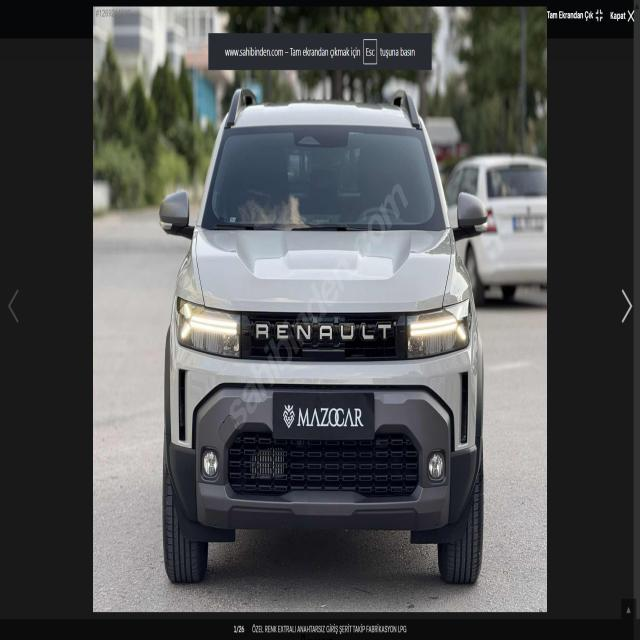renault: (233, 301, 411, 359)
